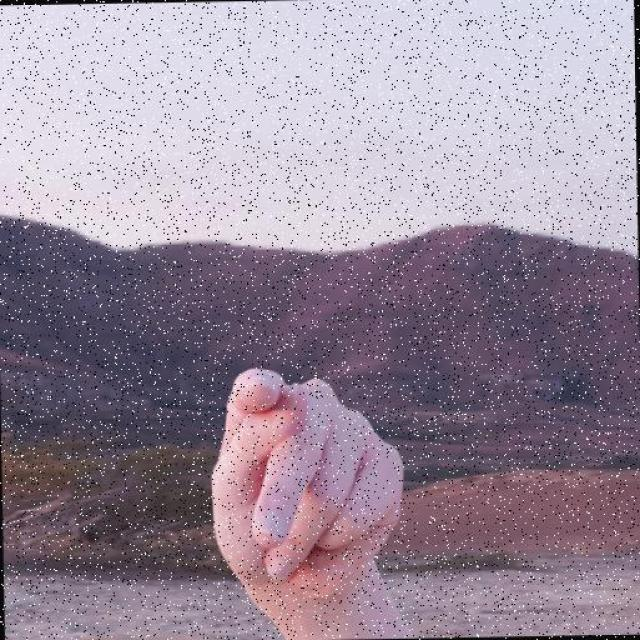P: (205, 361, 422, 603)
